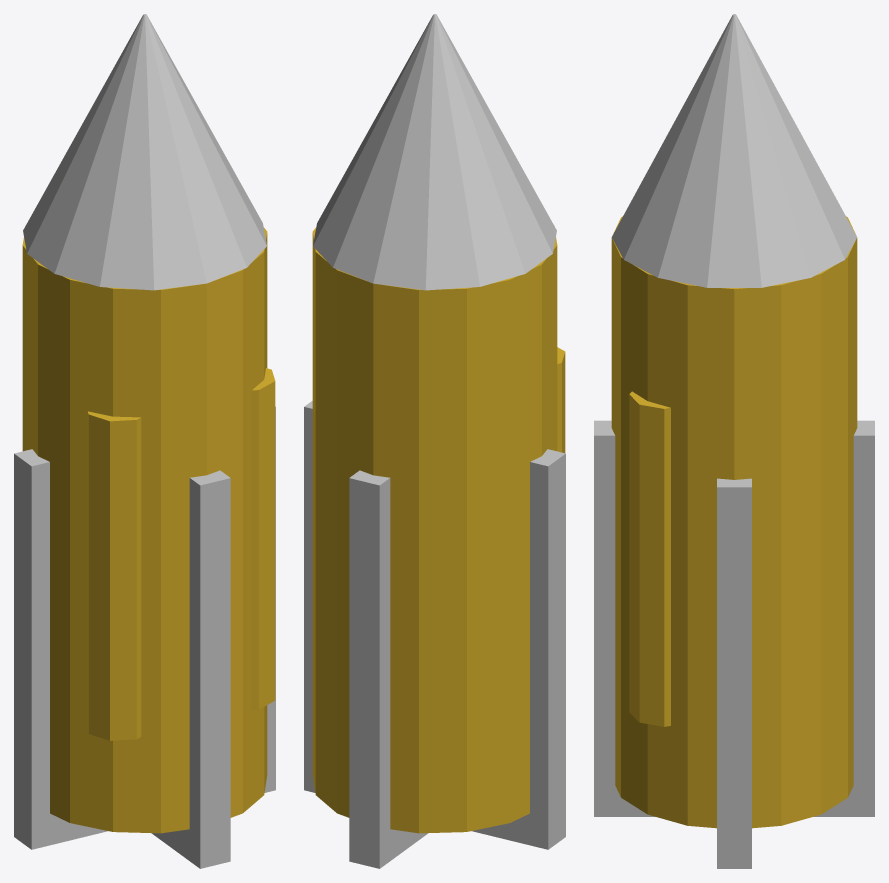
File: cluster_bomb.obj
3 renders of one model, left to right at view 1: azimuth 30°, elevation 25°; view 2: azimuth 150°, elevation 25°; view 3: azimuth 270°, elevation 25°, orthographic.
Visible parts, largest first — view 1: cluster_bomb; view 2: cluster_bomb; view 3: cluster_bomb.
Boxes of the visible parts, box(x1,y1,x2,y2) form: cluster_bomb: box(14, 14, 275, 868); cluster_bomb: box(304, 14, 565, 868); cluster_bomb: box(594, 14, 874, 868).
Bounding box in the file's own units: 0.16 × 0.5 × 0.16.
